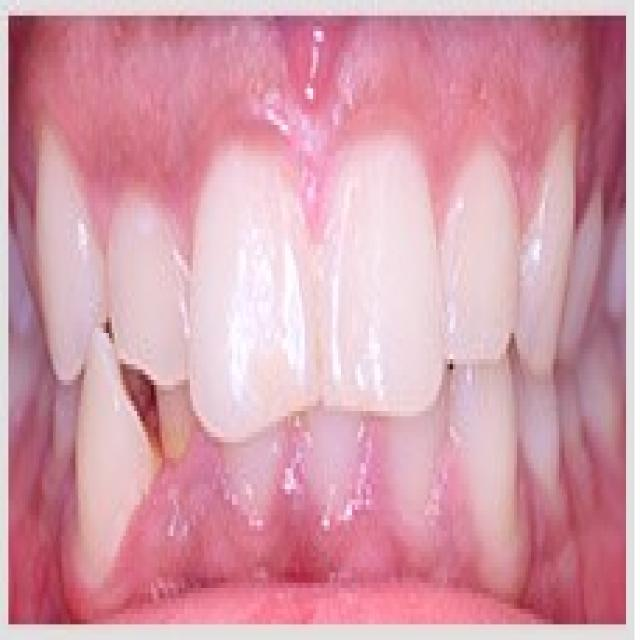tooth: (193, 135, 321, 453), (324, 94, 442, 411), (17, 166, 103, 380), (101, 208, 187, 390), (444, 156, 517, 364), (458, 359, 528, 572), (76, 359, 142, 520), (528, 136, 573, 364), (232, 432, 279, 536), (525, 364, 562, 489), (397, 411, 433, 520), (310, 406, 350, 479)
